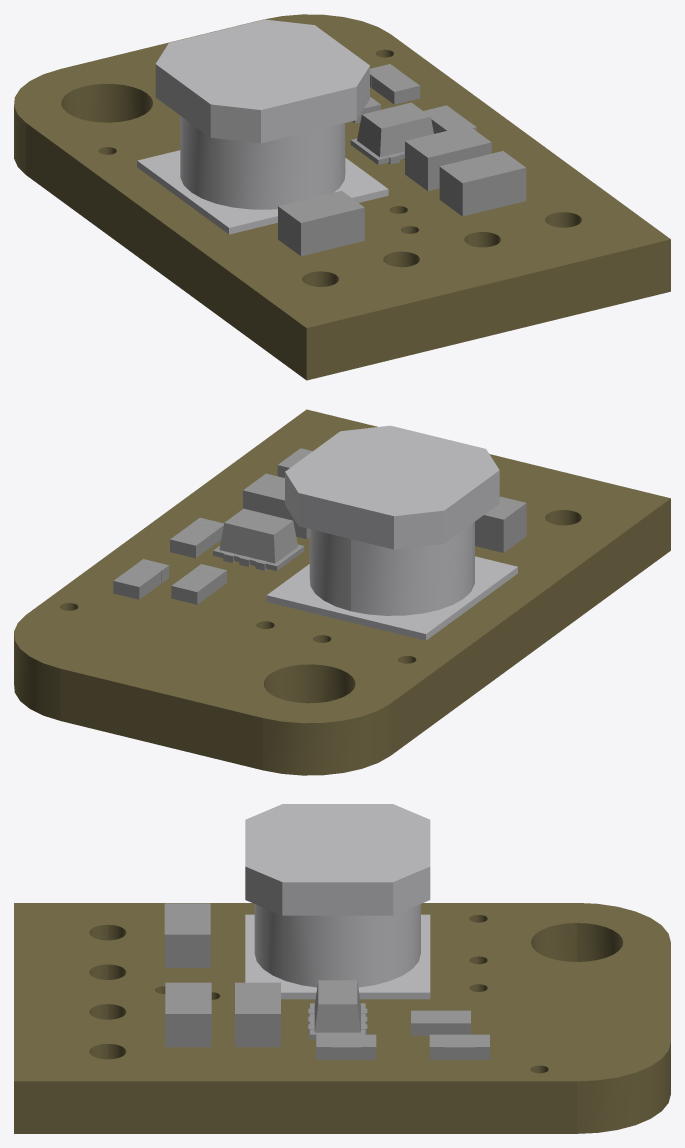
Rendered from ada-4654.glb.
3 renders of one model, top to bottom at view 1: azimuth 30°, elevation 25°; view 2: azimuth 150°, elevation 25°; view 3: azimuth 270°, elevation 25°, orthographic.
Parts seen in each view (by area): view 1: 0.16666666666666666_0.16666666666666666_0.08333333333333333_, 0.5833333333333334_0.5833333333333334_0.5833333333333334_0.8, 0.3333333333333333_0.3333333333333333_0.3333333333333333_0; view 2: 0.16666666666666666_0.16666666666666666_0.08333333333333333_, 0.5833333333333334_0.5833333333333334_0.5833333333333334_0.8, 0.3333333333333333_0.3333333333333333_0.3333333333333333_0; view 3: 0.16666666666666666_0.16666666666666666_0.08333333333333333_, 0.5833333333333334_0.5833333333333334_0.5833333333333334_0.8, 0.3333333333333333_0.3333333333333333_0.3333333333333333_0.
Part boxes in pixels (bbox=[...]): 0.16666666666666666_0.16666666666666666_0.08333333333333333_: bbox=[14, 14, 670, 380]; 0.5833333333333334_0.5833333333333334_0.5833333333333334_0.8: bbox=[137, 19, 388, 234]; 0.3333333333333333_0.3333333333333333_0.3333333333333333_0: bbox=[278, 64, 526, 256]; 0.16666666666666666_0.16666666666666666_0.08333333333333333_: bbox=[14, 409, 670, 775]; 0.5833333333333334_0.5833333333333334_0.5833333333333334_0.8: bbox=[266, 425, 517, 640]; 0.3333333333333333_0.3333333333333333_0.3333333333333333_0: bbox=[113, 448, 526, 604]; 0.16666666666666666_0.16666666666666666_0.08333333333333333_: bbox=[14, 903, 670, 1133]; 0.5833333333333334_0.5833333333333334_0.5833333333333334_0.8: bbox=[245, 804, 430, 999]; 0.3333333333333333_0.3333333333333333_0.3333333333333333_0: bbox=[164, 903, 489, 1059].
Bounding box in the file's own units: 1.14 × 0.507 × 1.78.
